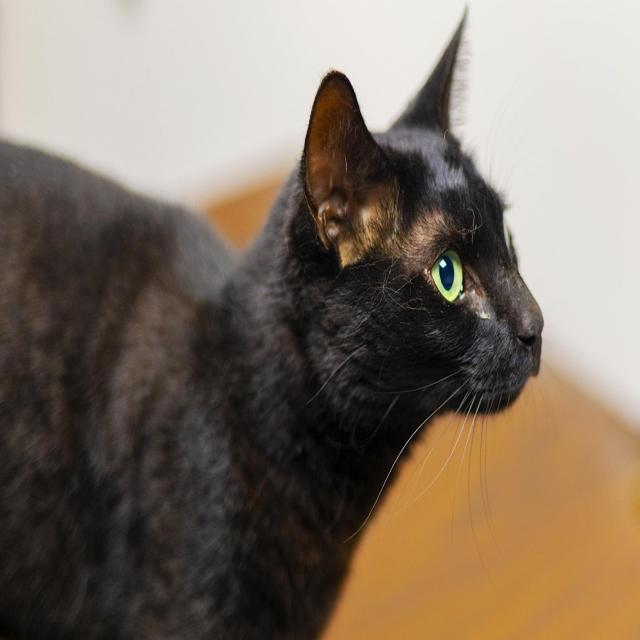Cat: (288, 9, 550, 440)
